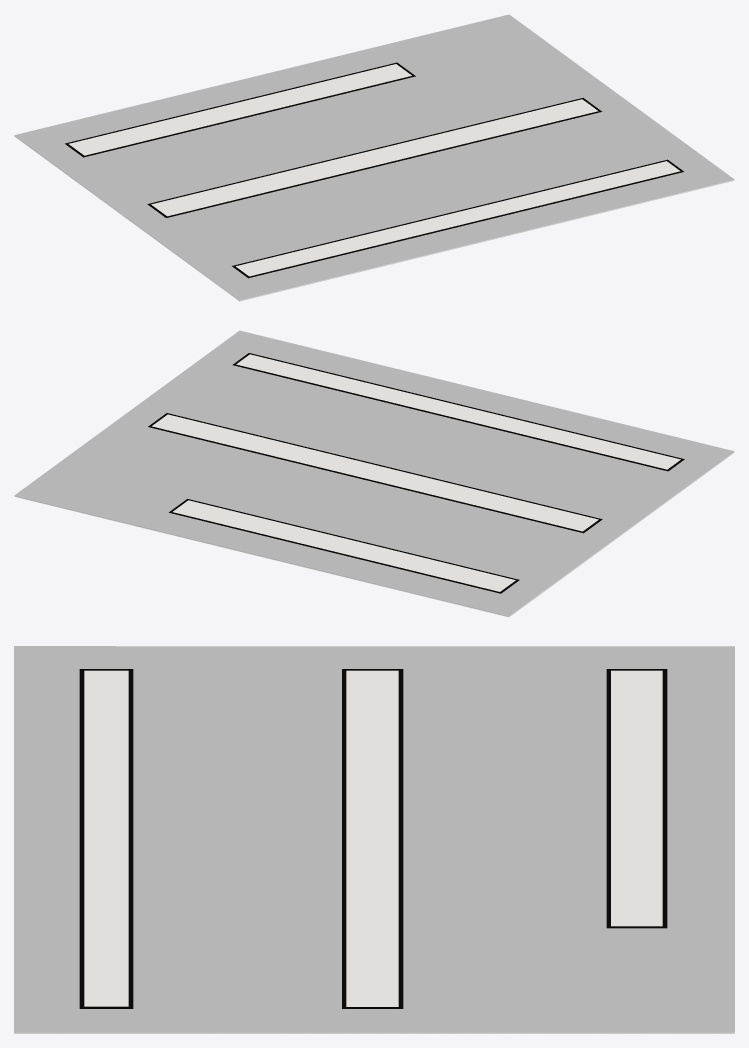
The model's file is SM_咨询室吊顶.fbx.
3 views of the same model, one above another, from view 1: azimuth 30°, elevation 25°; view 2: azimuth 150°, elevation 25°; view 3: azimuth 270°, elevation 25° (orthographic). The views are drawn at different scales.
Parts seen in each view (by area): view 1: SM_咨询室吊顶; view 2: SM_咨询室吊顶; view 3: SM_咨询室吊顶.
Part boxes in pixels (<box>): SM_咨询室吊顶: <box>14,14,734,301</box>; SM_咨询室吊顶: <box>14,330,734,617</box>; SM_咨询室吊顶: <box>14,646,734,1033</box>.
Size of the model in its own units: 10229 by 23.15 by 8072.
